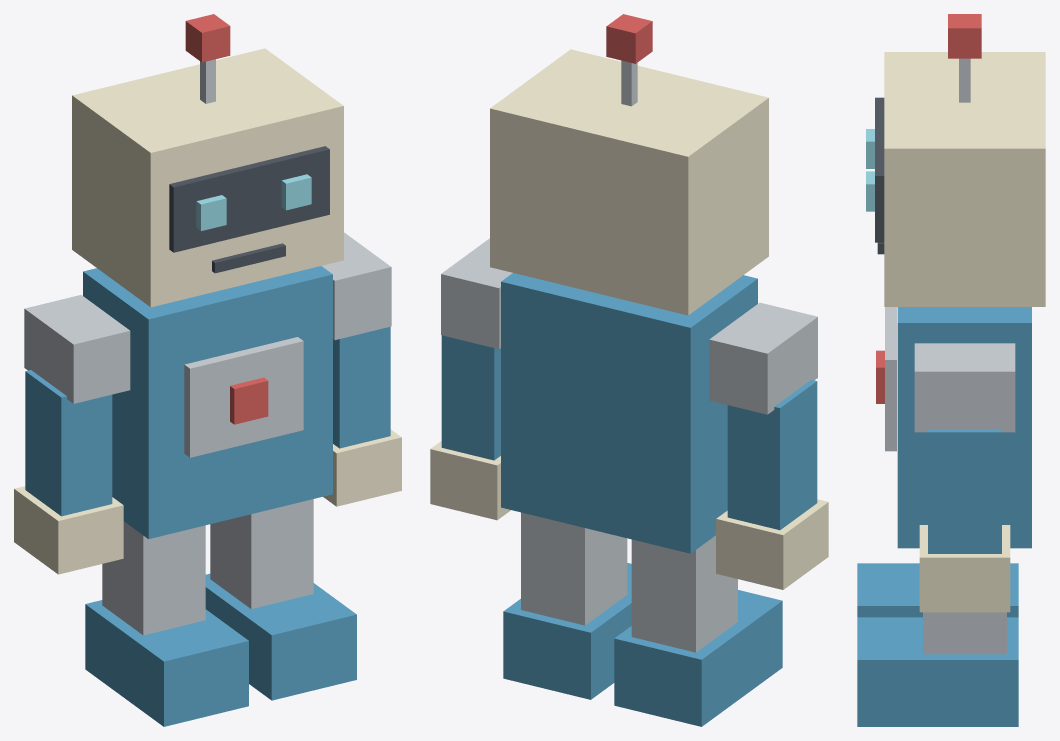
Rendered from robot.gltf.
The picture shows the model from 3 angles, left to right: view 1: azimuth 30°, elevation 25°; view 2: azimuth 150°, elevation 25°; view 3: azimuth 270°, elevation 25°; orthographic projection. The views are drawn at different scales.
Visible parts, largest first — view 1: head, body, foot (×2), leg (×2), arm (×2), shoulder (×2), hand (×2), chest panel, visor, antenna tip, power button, mouth (+3 smaller); view 2: head, body, foot (×2), leg (×2), arm (×2), shoulder (×2), hand (×2), antenna tip, antenna; view 3: head, foot (×2), body, arm, shoulder, hand, leg, chest panel, antenna tip, visor, antenna, power button (+2 smaller).
Part boxes in pixels (x1,y1,x2,y2): head: (72, 48, 343, 307); body: (83, 266, 332, 539); foot (×2): (85, 573, 356, 726); leg (×2): (102, 499, 313, 635); arm (×2): (25, 326, 390, 516); shoulder (×2): (24, 232, 391, 403); hand (×2): (14, 429, 401, 574); chest panel: (184, 337, 303, 457); visor: (169, 146, 329, 252); antenna tip: (185, 14, 230, 62); power button: (230, 377, 268, 424); mouth: (212, 243, 285, 273); head: (490, 49, 768, 315); body: (501, 273, 757, 553); foot (×2): (503, 563, 782, 726); leg (×2): (521, 512, 737, 652); arm (×2): (441, 335, 817, 530); shoulder (×2): (441, 238, 817, 414); hand (×2): (430, 441, 828, 589); antenna tip: (606, 14, 652, 63); antenna: (621, 60, 637, 106); head: (884, 52, 1045, 306); foot (×2): (857, 563, 1018, 726); body: (897, 307, 1031, 548); arm: (928, 429, 1001, 553); shoulder: (914, 343, 1015, 432); hand: (919, 525, 1010, 612); leg: (923, 612, 1006, 654); chest panel: (885, 307, 896, 451); antenna tip: (948, 14, 981, 58); visor: (875, 97, 884, 242); antenna: (959, 58, 970, 102); power button: (876, 350, 884, 403).
Size of the model in its own units: 1.21 by 2.16 by 0.56.
